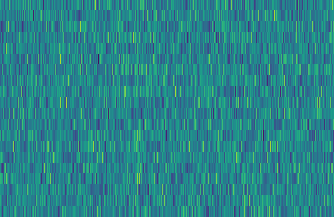signal: (132, 0, 141, 217)
